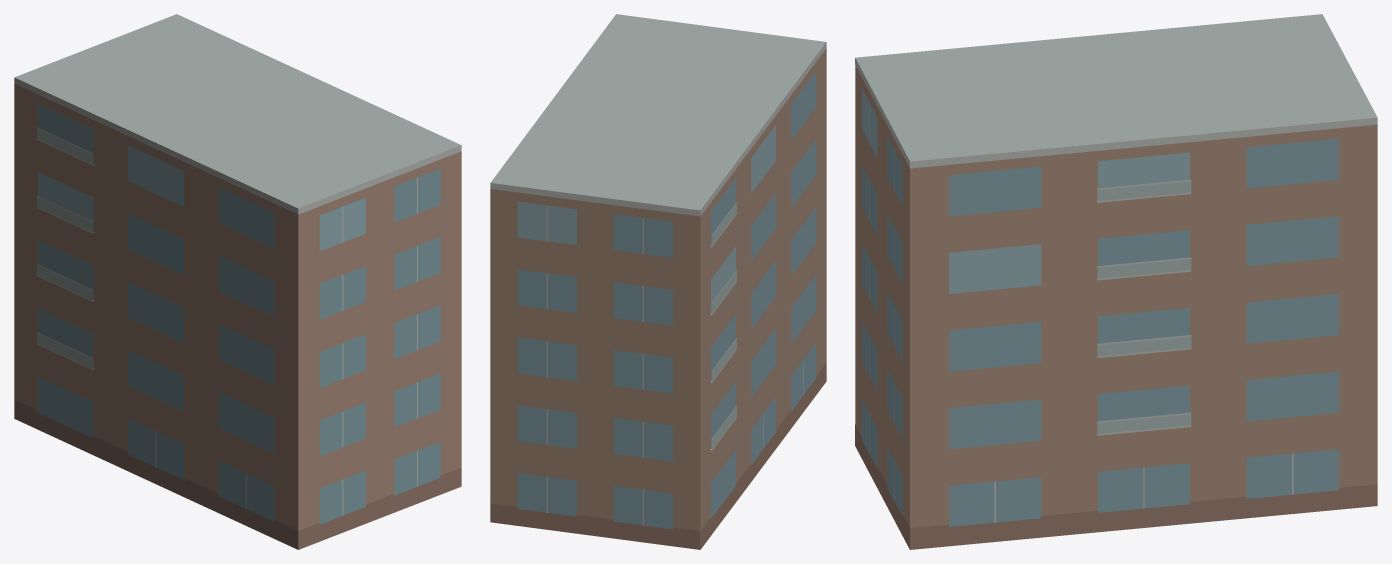
The model's file is survey-upis-32527576.glb.
3 renders of one model, left to right at view 1: azimuth 30°, elevation 25°; view 2: azimuth 150°, elevation 25°; view 3: azimuth 270°, elevation 25°, orthographic. The views are drawn at different scales.
Visible parts, largest first — view 1: survey-upis-32527576.tmp; view 2: survey-upis-32527576.tmp; view 3: survey-upis-32527576.tmp.
Part boxes in pixels (x1=…): survey-upis-32527576.tmp: x1=14, y1=14, x2=461, y2=549; survey-upis-32527576.tmp: x1=490, y1=14, x2=826, y2=549; survey-upis-32527576.tmp: x1=855, y1=14, x2=1377, y2=549.
Bounding box in the file's own units: 11.27 × 13.8 × 16.85.
